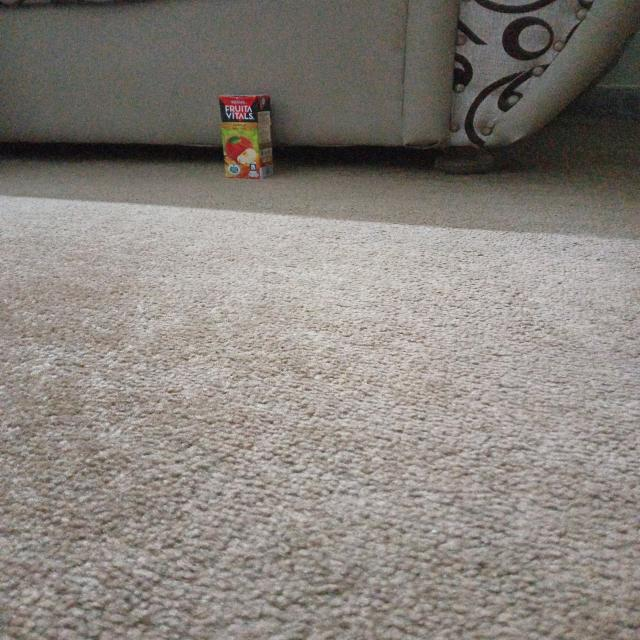Plastic: (214, 91, 284, 182)
